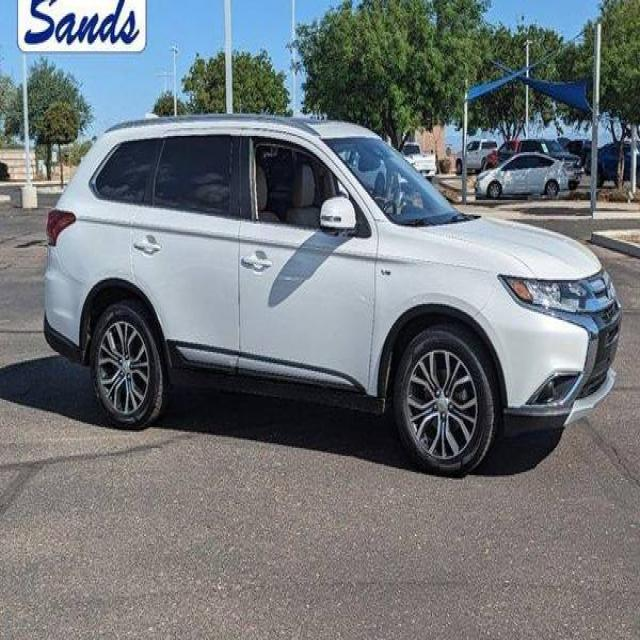light_vehicle: (42, 112, 624, 474)
